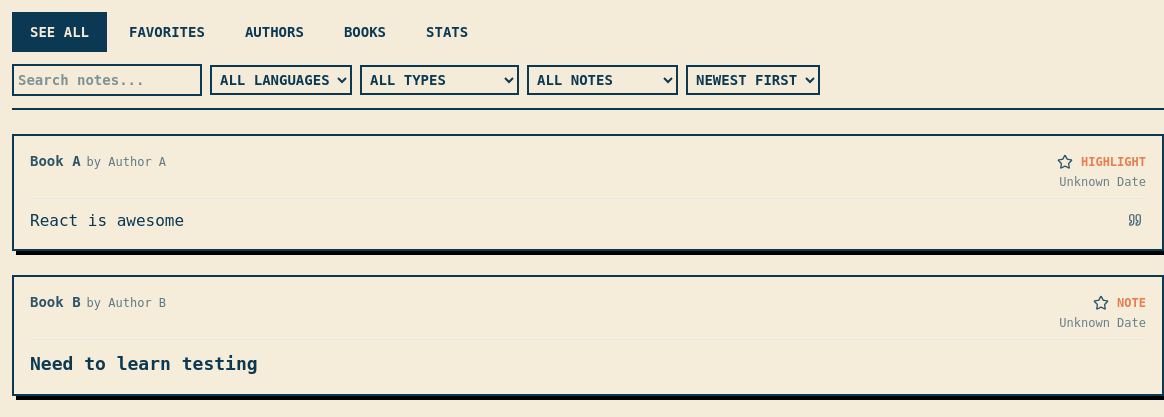
Test case: Dashboard rigorous tests › renders search input and filters notes by content
Expected: the text "React is awesome" is shown, 30,211 -> 184,230
Expected: the text "Need to learn testing" is shown, 30,353 -> 258,374
// Type into search
Type "React" into the field with placeholder "Search notes..." at (107,80), box 12,64 -> 202,96
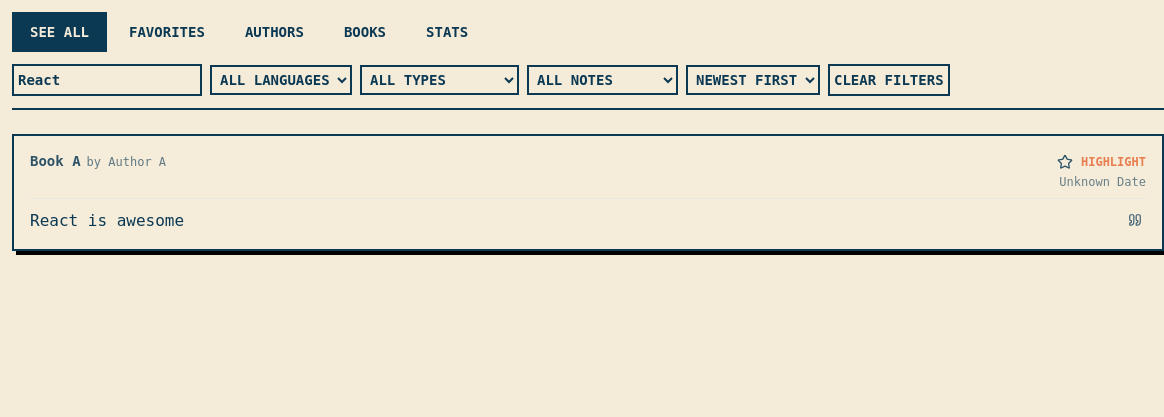
Expected: the text "React is awesome" is shown, 30,211 -> 184,230
Expected: the text "Need to learn testing" is gone
